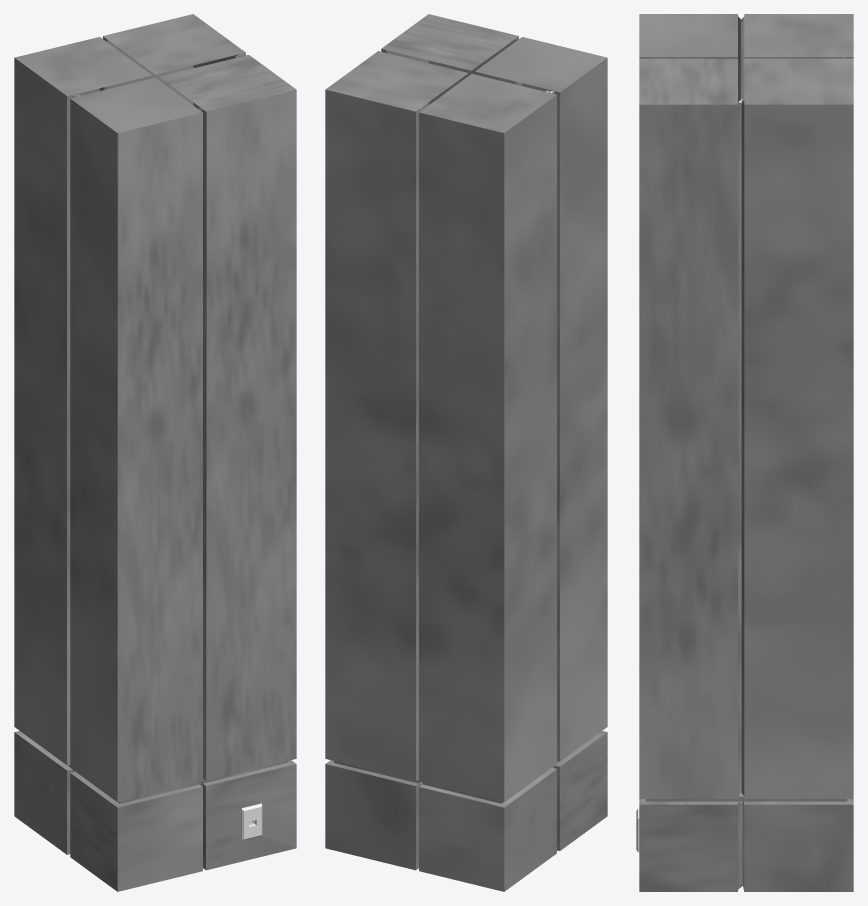
Rendered from PilarEscritorio.fbx.
3 views of the same model, side by side, from view 1: azimuth 30°, elevation 25°; view 2: azimuth 150°, elevation 25°; view 3: azimuth 270°, elevation 25° (orthographic). The views are drawn at different scales.
Visible parts, largest first — view 1: PilarEscritorio; view 2: PilarEscritorio; view 3: PilarEscritorio.
Boxes of the visible parts, x1=… form: PilarEscritorio: x1=14, y1=14, x2=296, y2=891; PilarEscritorio: x1=325, y1=14, x2=607, y2=891; PilarEscritorio: x1=636, y1=14, x2=853, y2=891.
Bounding box in the file's own units: 200 × 811 × 203.
